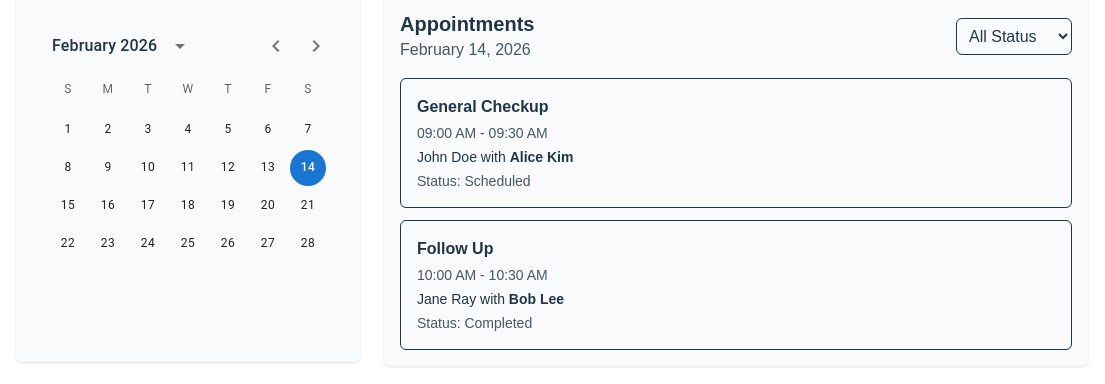
Scenario: AppointmentsHomePage › renders appointments and filters by status
Expected: the text "General Checkup" is shown, x1=417 y1=98 x2=549 y2=115
Expected: the text "Follow Up" is shown, x1=417 y1=240 x2=493 y2=257
Select "Completed" in the dropdown at (1014, 36), box x1=956 y1=18 x2=1072 y2=54
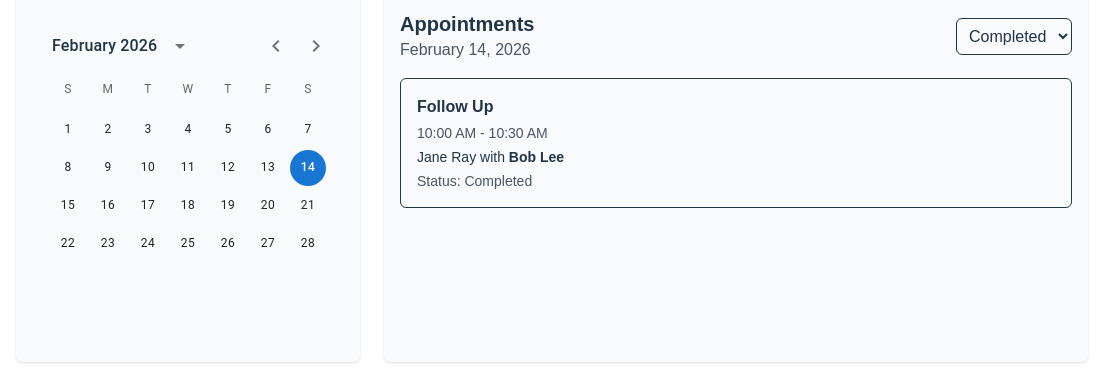
Expected: the text "Follow Up" is shown, x1=417 y1=98 x2=493 y2=115
Expected: the text "General Checkup" is gone
